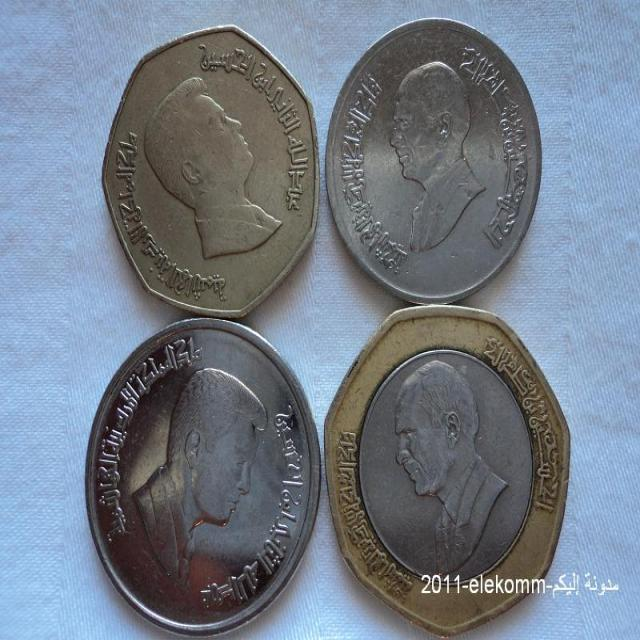10-coins: (83, 317, 324, 635)
25-coins: (98, 23, 319, 318)
5-coins: (325, 16, 545, 304)
50-coins: (322, 304, 574, 638)
